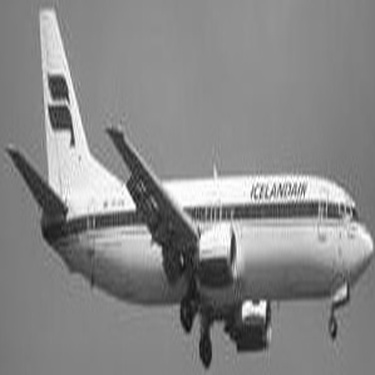airplane: (8, 3, 370, 372)
